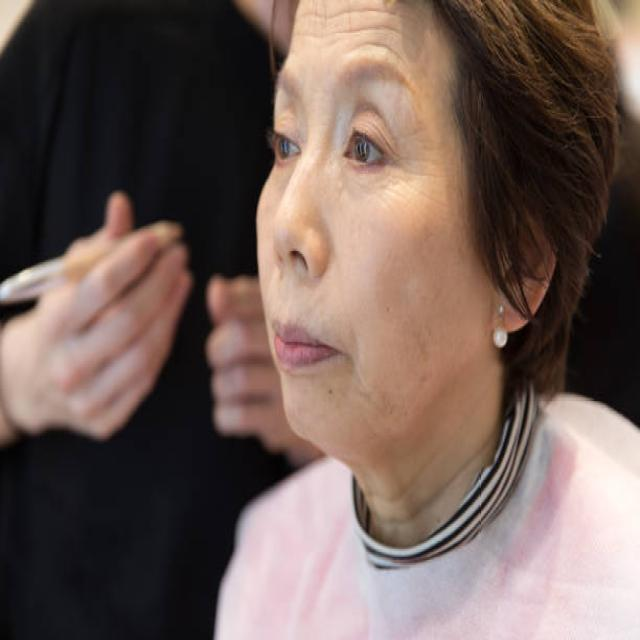dry: (399, 122, 476, 388)
